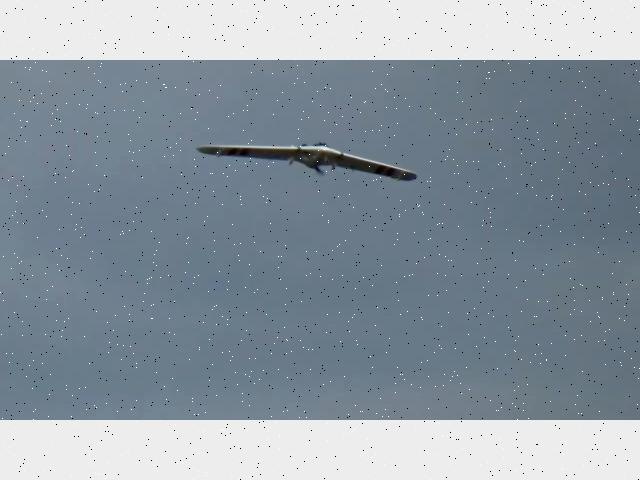Anti-Drone: (196, 140, 418, 182)
